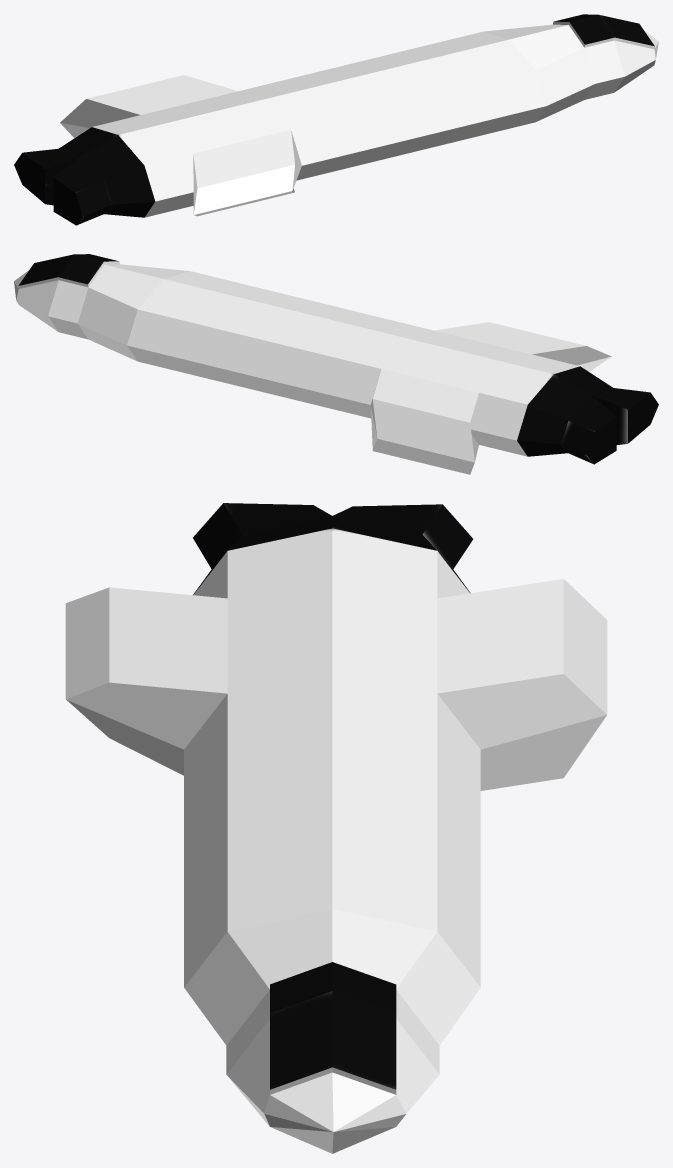
File: ship.glb
3 renders of one model, top to bottom at view 1: azimuth 30°, elevation 25°; view 2: azimuth 150°, elevation 25°; view 3: azimuth 270°, elevation 25°, orthographic. The views are drawn at different scales.
Parts seen in each view (by area): view 1: Cylinder; view 2: Cylinder; view 3: Cylinder.
Boxes of the visible parts, x1,y1,x2,y2 form: Cylinder: (14,14,658,225); Cylinder: (14,254,658,474); Cylinder: (65,503,607,1153).
Bounding box in the file's own units: 9.49 × 1.19 × 3.65.
1 material, 1 textured.
